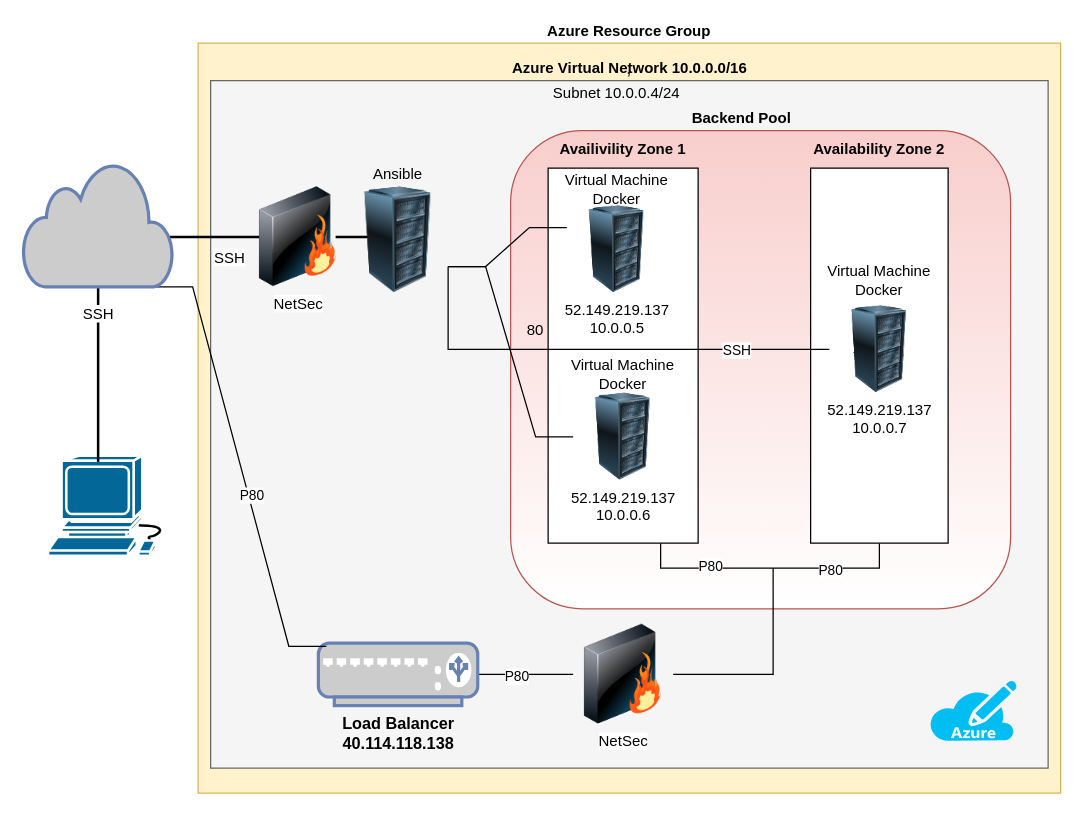
Image size: 1083x815. Some labels were removed from this diagram. Each missing label, with the centre of its shape:
Internet: point (97, 224)
Jump Box 10.0.0.4: point (398, 239)
Local Terminal: point (110, 505)
